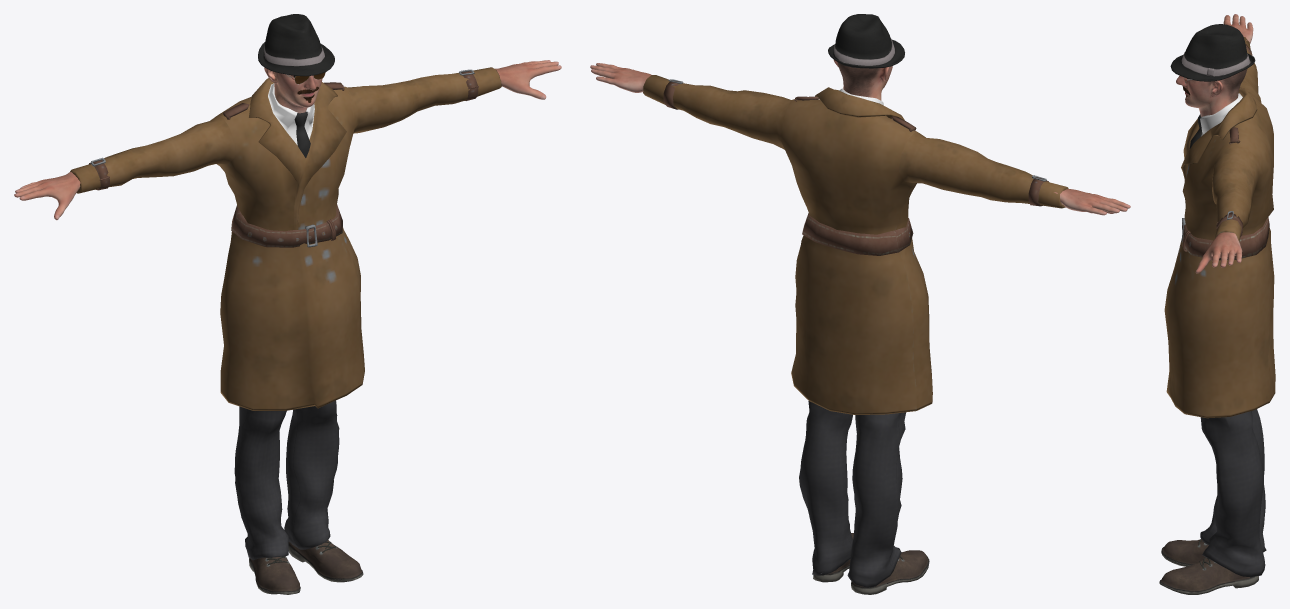
File: EnemyPistol.obj
3 views of the same model, side by side, from view 1: azimuth 30°, elevation 25°; view 2: azimuth 150°, elevation 25°; view 3: azimuth 270°, elevation 25° (orthographic). The views are drawn at different scales.
Visible parts, largest first — view 1: Tops, Bottoms, Body, Hats, Shoes; view 2: Tops, Bottoms, Body, Hats, Shoes; view 3: Tops, Bottoms, Hats, Body, Shoes.
Part boxes in pixels (box(x1,y1,x2,y2)): Tops: box(70, 67, 501, 410); Bottoms: box(234, 400, 339, 560); Body: box(14, 60, 561, 220); Hats: box(258, 14, 334, 76); Shoes: box(249, 539, 363, 594); Tops: box(643, 75, 1068, 414); Bottoms: box(799, 401, 905, 587); Body: box(590, 59, 1130, 215); Hats: box(828, 14, 904, 68); Shoes: box(813, 533, 929, 594); Tops: box(1164, 37, 1275, 418); Bottoms: box(1200, 409, 1266, 577); Hats: box(1170, 24, 1255, 81); Body: box(1176, 14, 1253, 273); Shoes: box(1159, 539, 1258, 594).
Size of the model in its own units: 193 by 190 by 36.79.
Materials: 1 (1 with a texture image).
